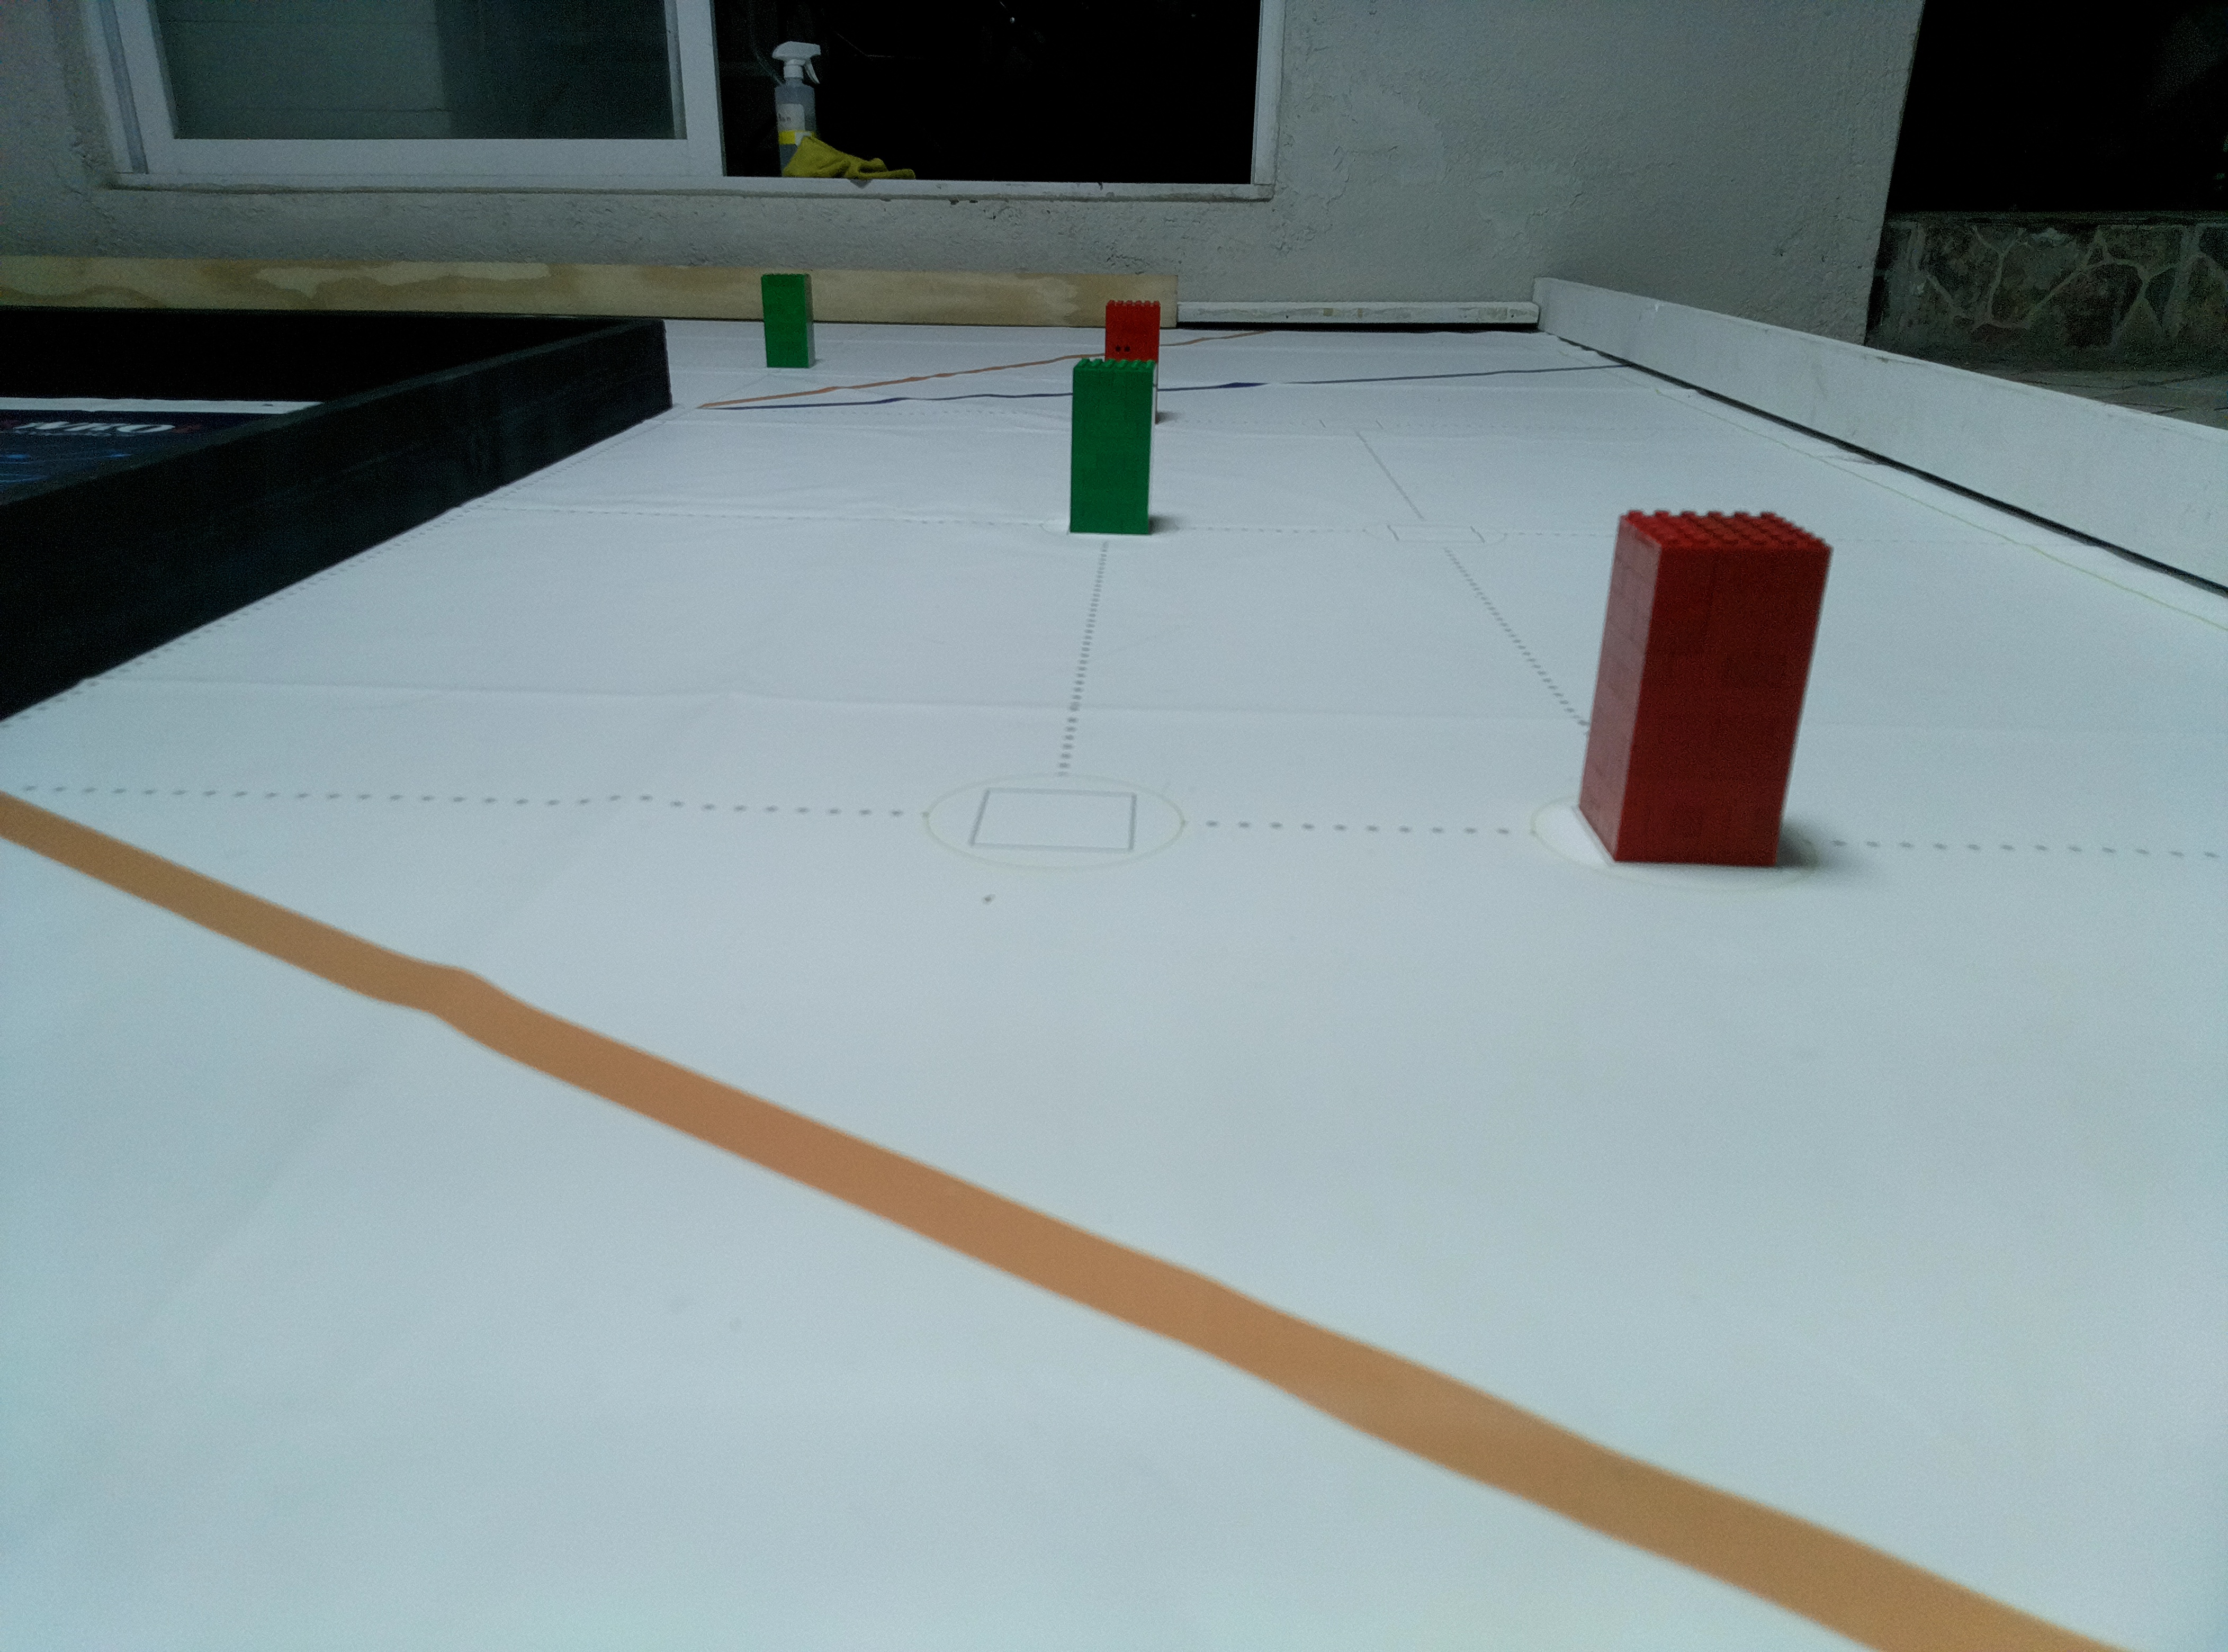greenbox: (1071, 356, 1157, 536), (760, 274, 817, 368)
redbox: (1581, 508, 1834, 862), (1104, 298, 1161, 364)
